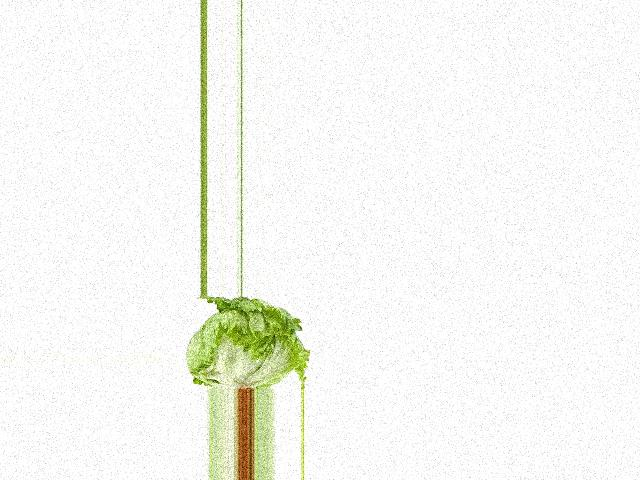lettuce: (182, 297, 314, 390)
